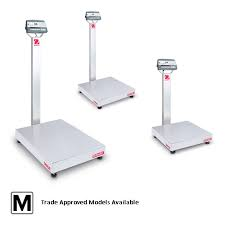Industrial Scale: (13, 19, 106, 178), (151, 59, 216, 156), (78, 11, 137, 108)
